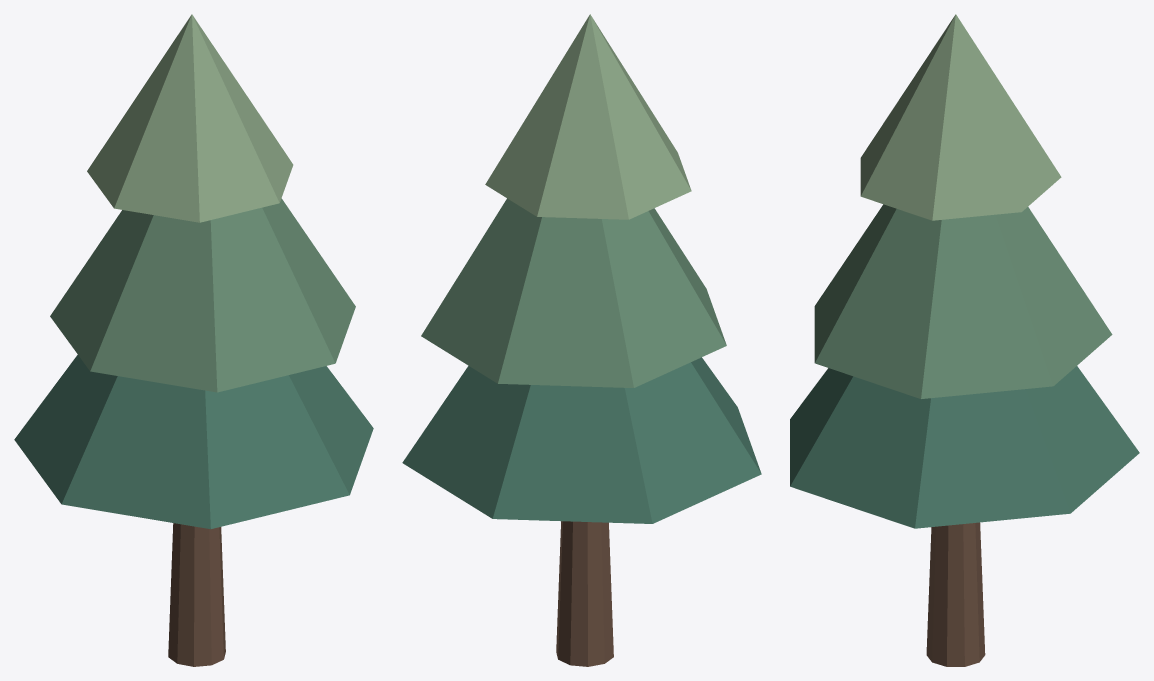
File: tree.glb
3 renders of one model, left to right at view 1: azimuth 30°, elevation 25°; view 2: azimuth 150°, elevation 25°; view 3: azimuth 270°, elevation 25°, orthographic.
Visible parts, largest first — view 1: Low crown, Middle crown, High crown, Trunk; view 2: Low crown, Middle crown, High crown, Trunk; view 3: Middle crown, Low crown, High crown, Trunk.
Boxes of the visible parts, bbox=[...] form: Low crown: bbox=[14, 355, 373, 529]; Middle crown: bbox=[50, 198, 355, 392]; High crown: bbox=[87, 14, 293, 222]; Trunk: bbox=[168, 523, 225, 666]; Low crown: bbox=[402, 357, 761, 523]; Middle crown: bbox=[421, 198, 726, 387]; High crown: bbox=[485, 14, 691, 219]; Trunk: bbox=[556, 521, 613, 666]; Middle crown: bbox=[814, 204, 1112, 398]; Low crown: bbox=[790, 366, 1139, 528]; High crown: bbox=[860, 14, 1061, 220]; Trunk: bbox=[926, 522, 985, 666].
Size of the model in its own units: 0.9164 by 1.8 by 0.8935.
